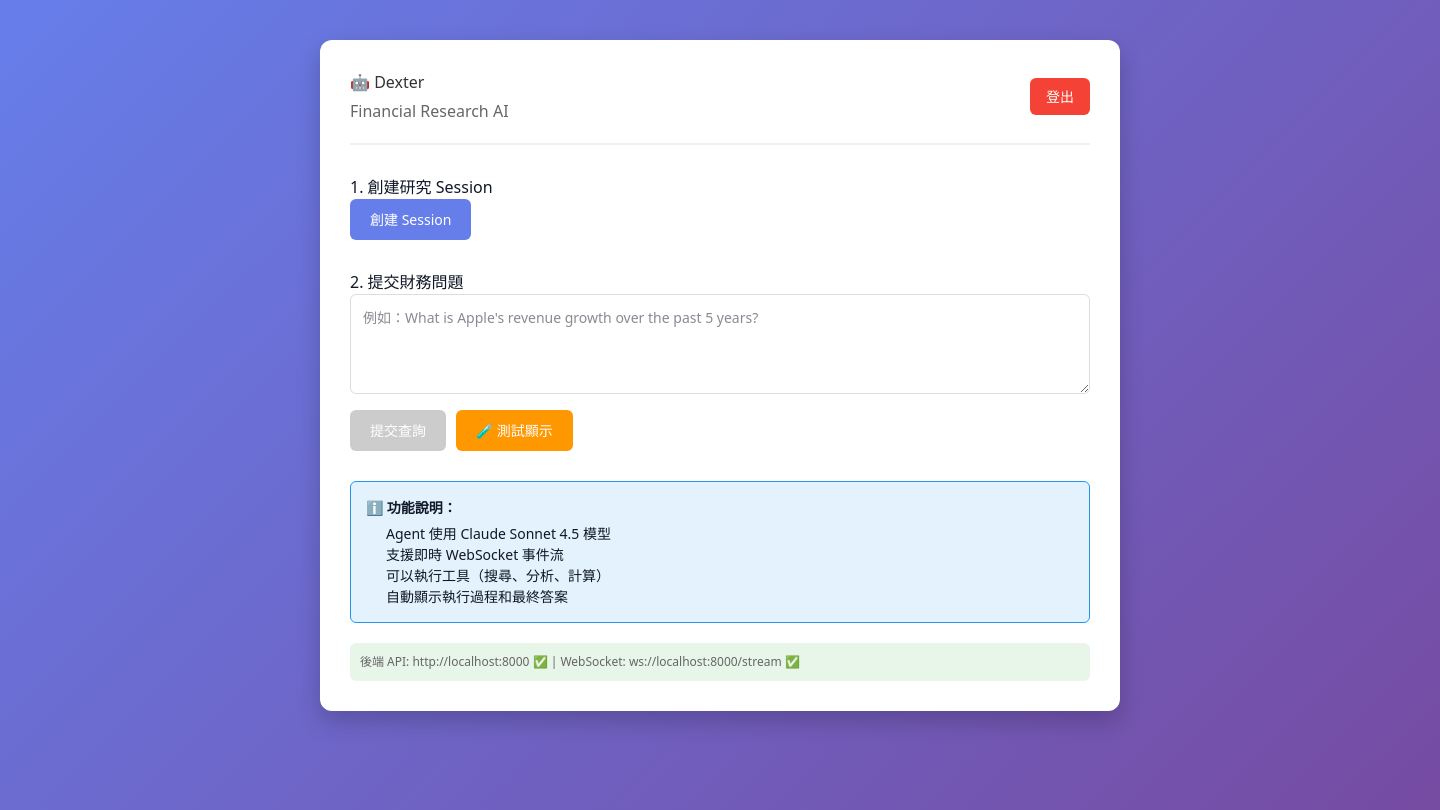
query submission and live results › recovers an error that happened before the subscription
Click the button "創建 Session" at [411, 220], box [350,199,471,240]
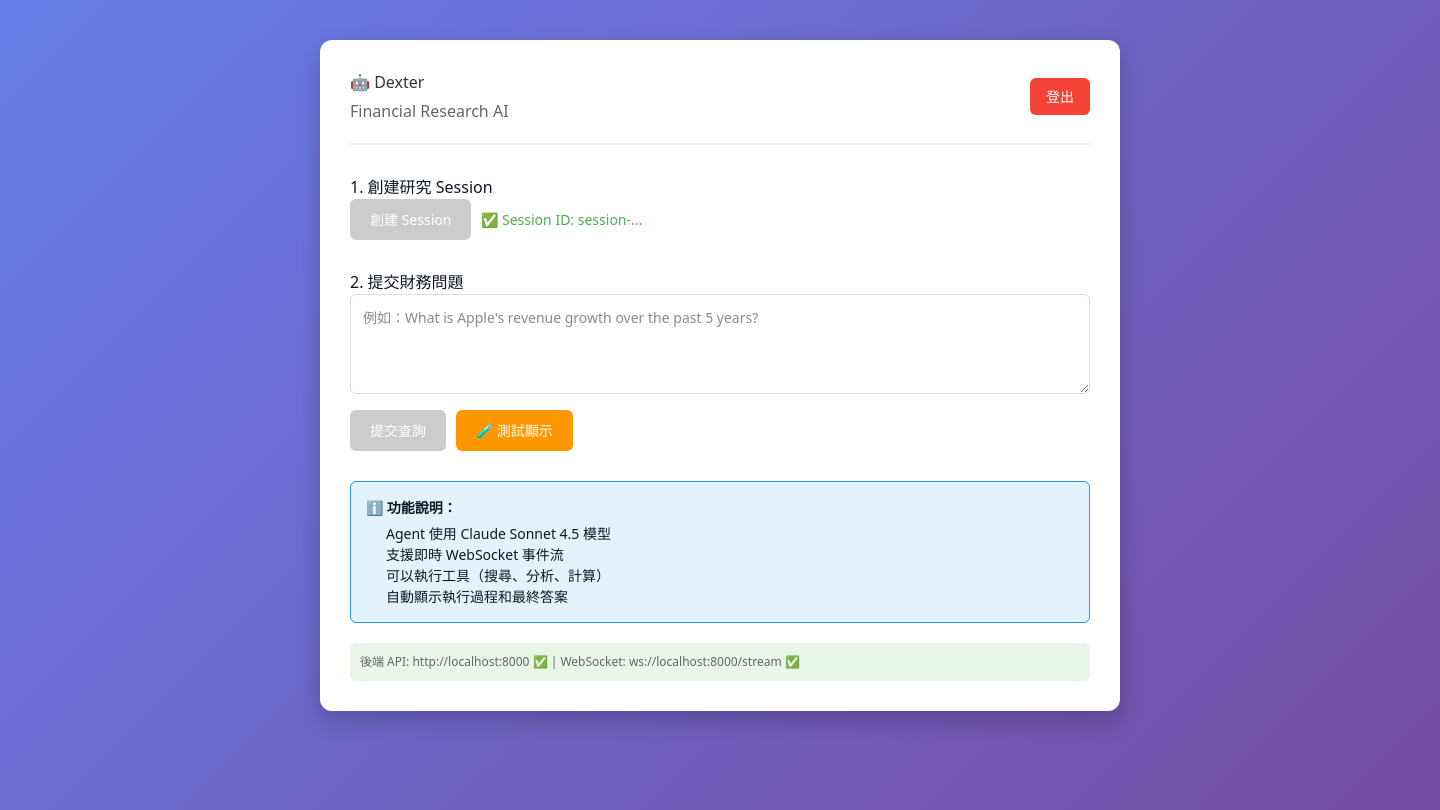
Type "Summarize revenue" into the text box at [720, 344], box [350,294,1090,394]
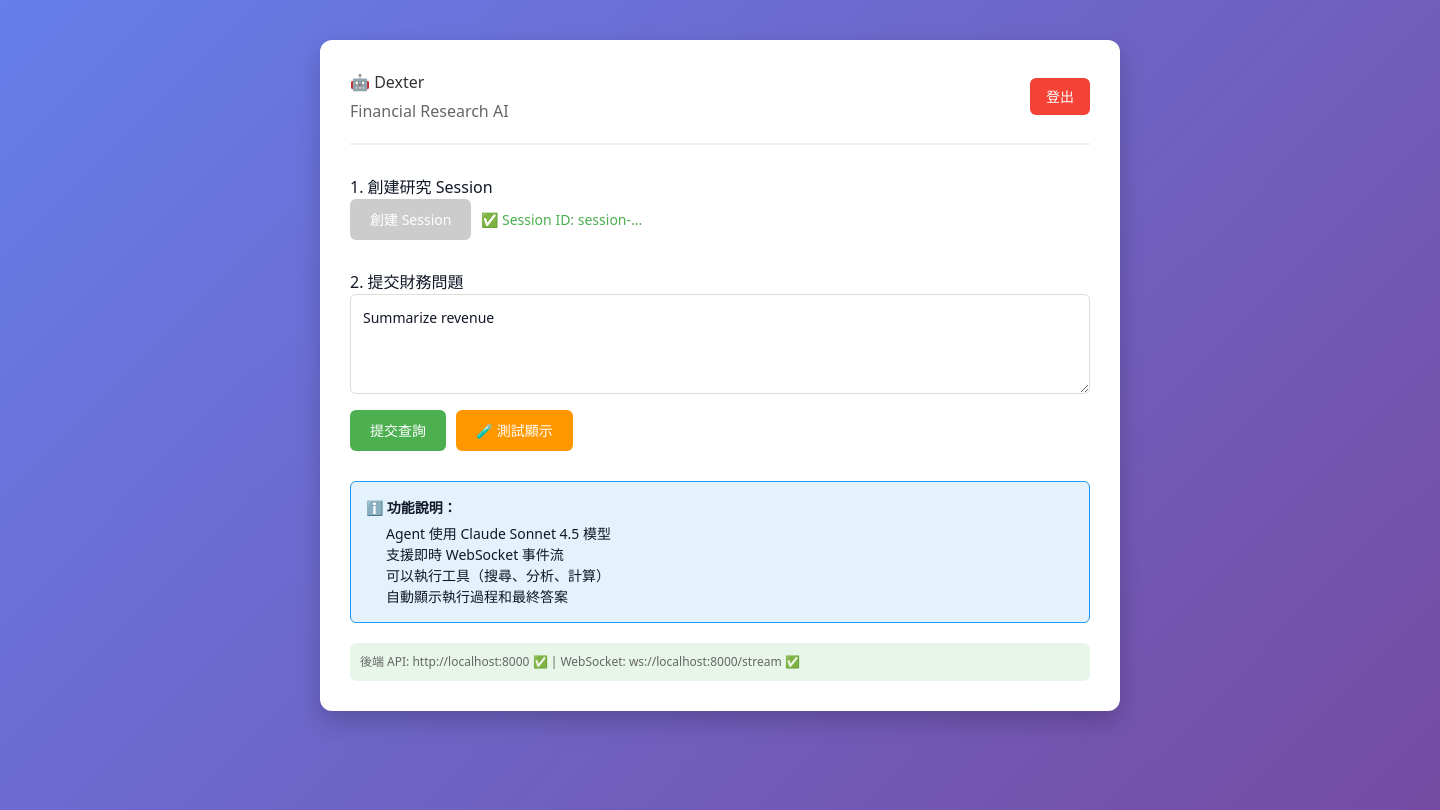
Click the button "提交查詢" at [398, 430], box [350,410,446,451]
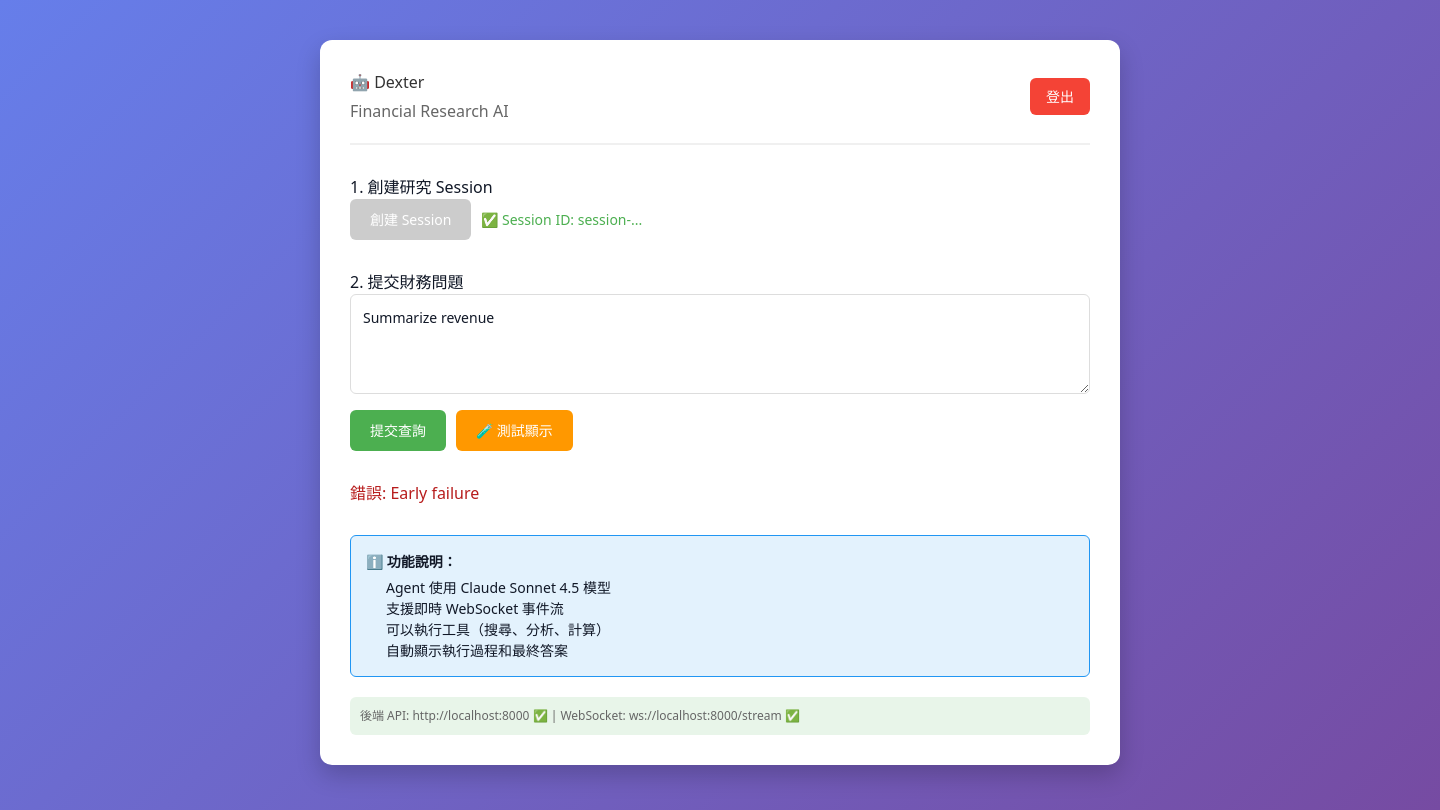
Now the button "提交查詢" is enabled, box [350,410,446,451]
Now the message shows "Early failure", box [390,482,479,504]
